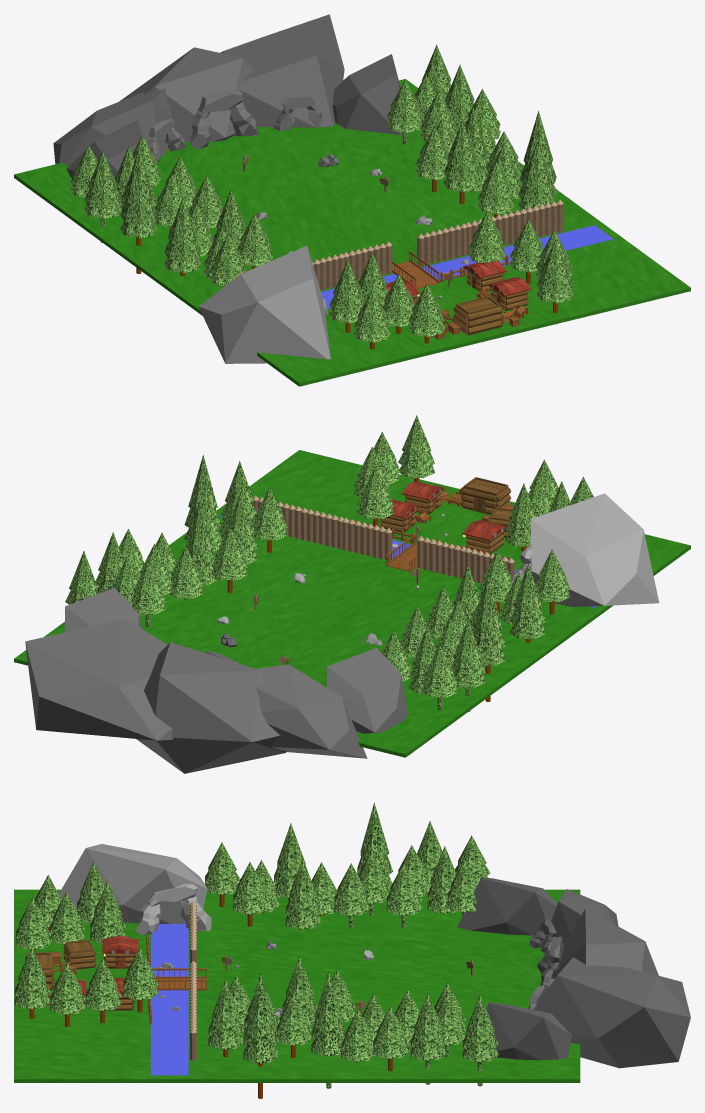
Rendered from MAP(NEW).fbx.
The picture shows the model from 3 angles, top to bottom: view 1: azimuth 30°, elevation 25°; view 2: azimuth 150°, elevation 25°; view 3: azimuth 270°, elevation 25°; orthographic projection.
Parts seen in each view (by area): view 1: MAP, Rock_3__13_, Rock_3__3_, Rock_1__1_, Rock_3__5_, Rock_3__2_, TreeDG__11_, cave, water, TreeDG__16_, TreeDG__21_, TreeBr__5_ (+40 smaller); view 2: MAP, Rock_3__3_, Rock_1__1_, Rock_3__13_, Rock_3__2_, Rock_3__4_, Rock_3__5_, TreeDG__11_, TreeDG__16_, WOODWALL__5___1_, WOODWALL__5___2_, TreeBr__5_ (+35 smaller); view 3: MAP, Rock_3__3_, Rock_3__13_, water, Rock_3__4_, Rock_3__5_, Rock_1__1_, TreeDG__20_, TreeBr__15_, cave__3_, TreeDG__15_, TreeDG__10_ (+41 smaller).
Boxes of the visible parts, <box> form: MAP: <box>14,79,690,386</box>; Rock_3__13_: <box>198,245,330,363</box>; Rock_3__3_: <box>220,14,344,127</box>; Rock_1__1_: <box>119,47,254,141</box>; Rock_3__5_: <box>332,54,407,134</box>; Rock_3__2_: <box>53,88,174,164</box>; TreeDG__11_: <box>120,147,157,273</box>; cave: <box>190,90,258,148</box>; water: <box>321,225,613,308</box>; TreeDG__16_: <box>164,197,201,276</box>; TreeDG__21_: <box>443,121,480,203</box>; TreeBr__5_: <box>84,151,121,242</box>; MAP: <box>14,450,690,757</box>; Rock_3__3_: <box>25,618,173,740</box>; Rock_1__1_: <box>136,642,286,773</box>; Rock_3__13_: <box>530,493,659,606</box>; Rock_3__2_: <box>256,664,367,758</box>; Rock_3__4_: <box>327,648,408,733</box>; Rock_3__5_: <box>65,588,141,632</box>; TreeDG__11_: <box>473,575,506,701</box>; TreeDG__16_: <box>509,563,546,642</box>; WOODWALL__5___1_: <box>342,518,392,560</box>; WOODWALL__5___2_: <box>294,506,343,549</box>; TreeBr__5_: <box>451,620,486,711</box>; MAP: <box>14,889,580,1082</box>; Rock_3__3_: <box>533,957,690,1068</box>; Rock_3__13_: <box>59,844,207,923</box>; water: <box>151,923,188,1075</box>; Rock_3__4_: <box>457,877,557,935</box>; Rock_3__5_: <box>486,1002,571,1060</box>; Rock_1__1_: <box>551,908,658,978</box>; TreeDG__20_: <box>243,973,279,1098</box>; TreeBr__15_: <box>311,971,345,1088</box>; cave__3_: <box>135,883,211,935</box>; TreeDG__15_: <box>208,979,244,1057</box>; TreeDG__10_: <box>285,859,321,929</box>.
Bounding box in the file's own units: 12529 × 4435 × 17933.
